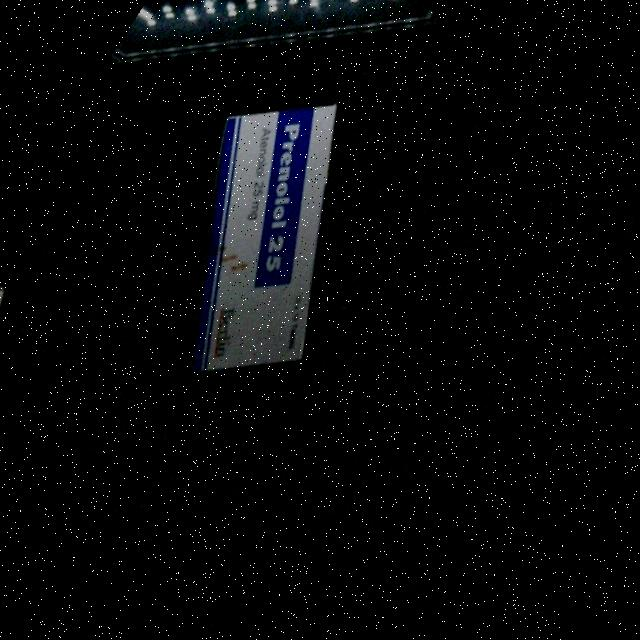prenolol: (101, 62, 425, 418)
